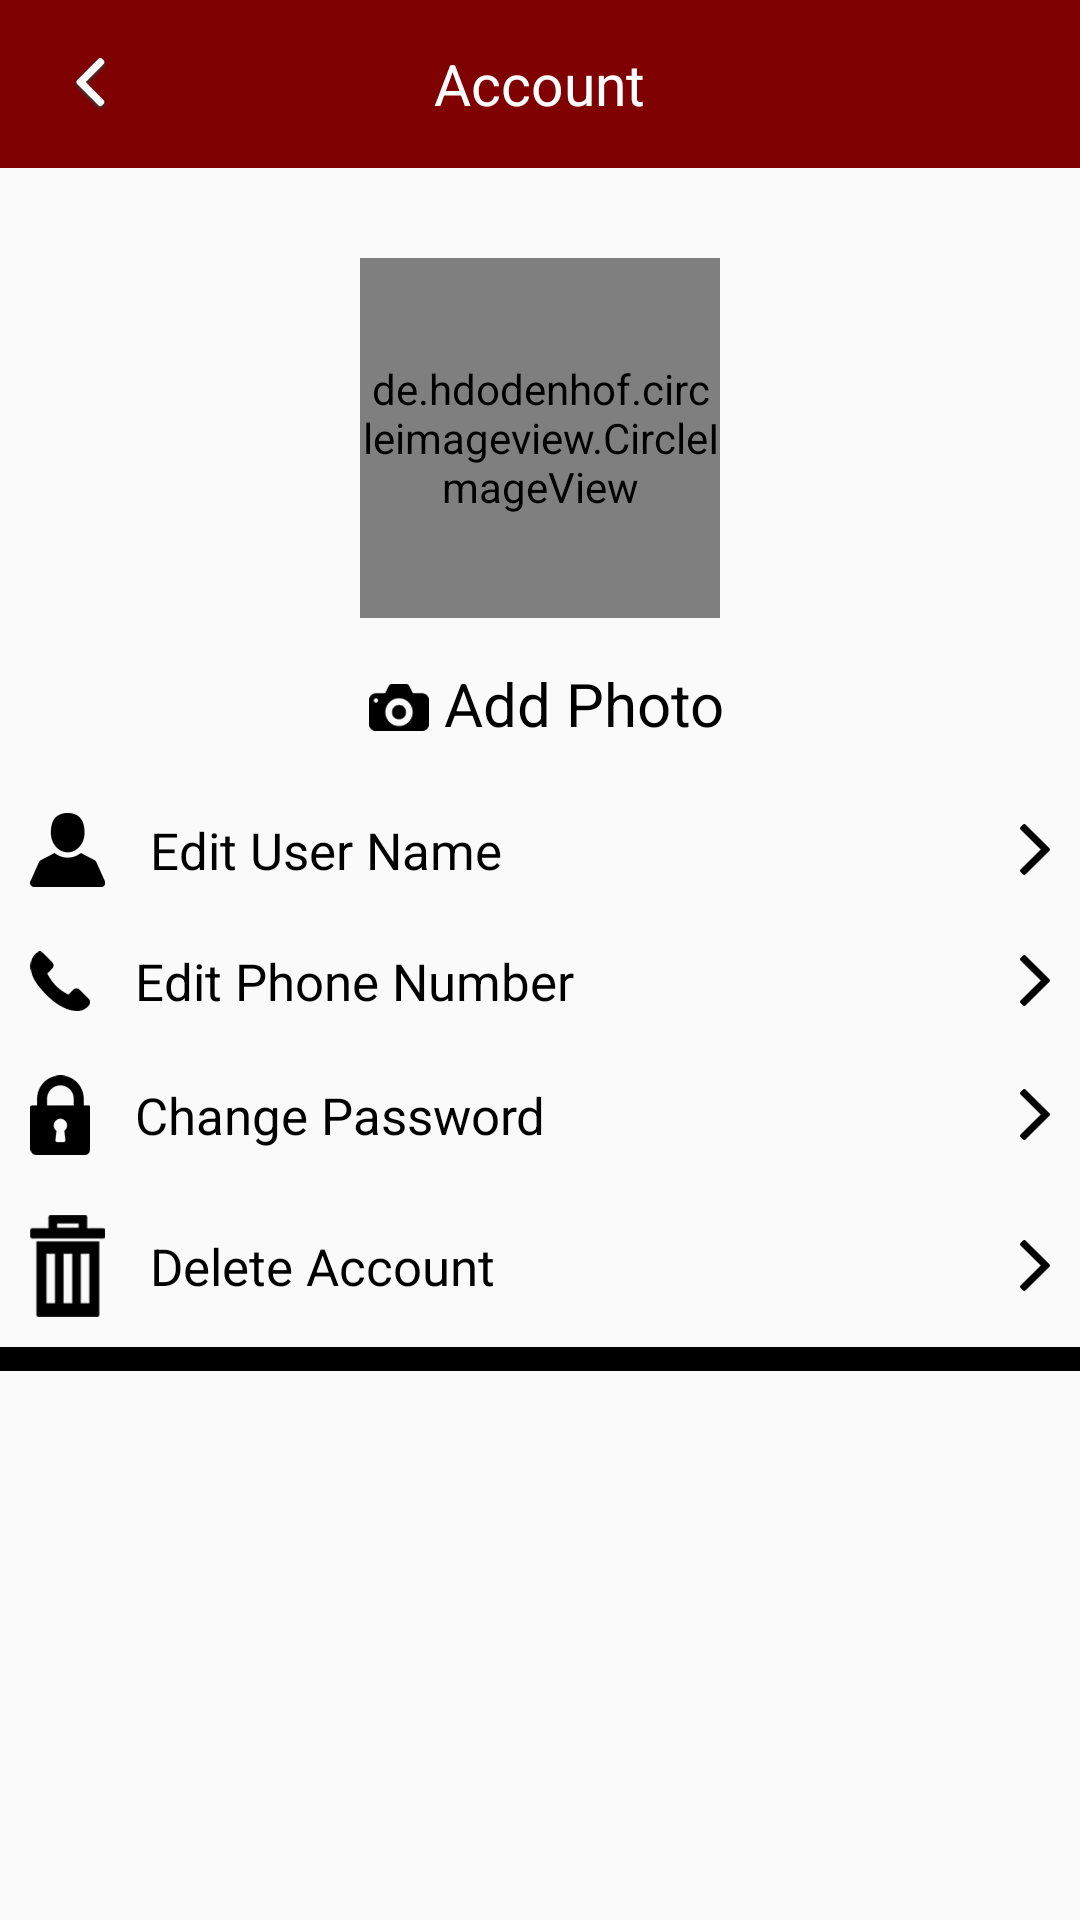

Screen size 1080 × 1920. Icon name, then its box in pixels as (x1,y1,x2,y2):
cam: (369,684,429,731)
